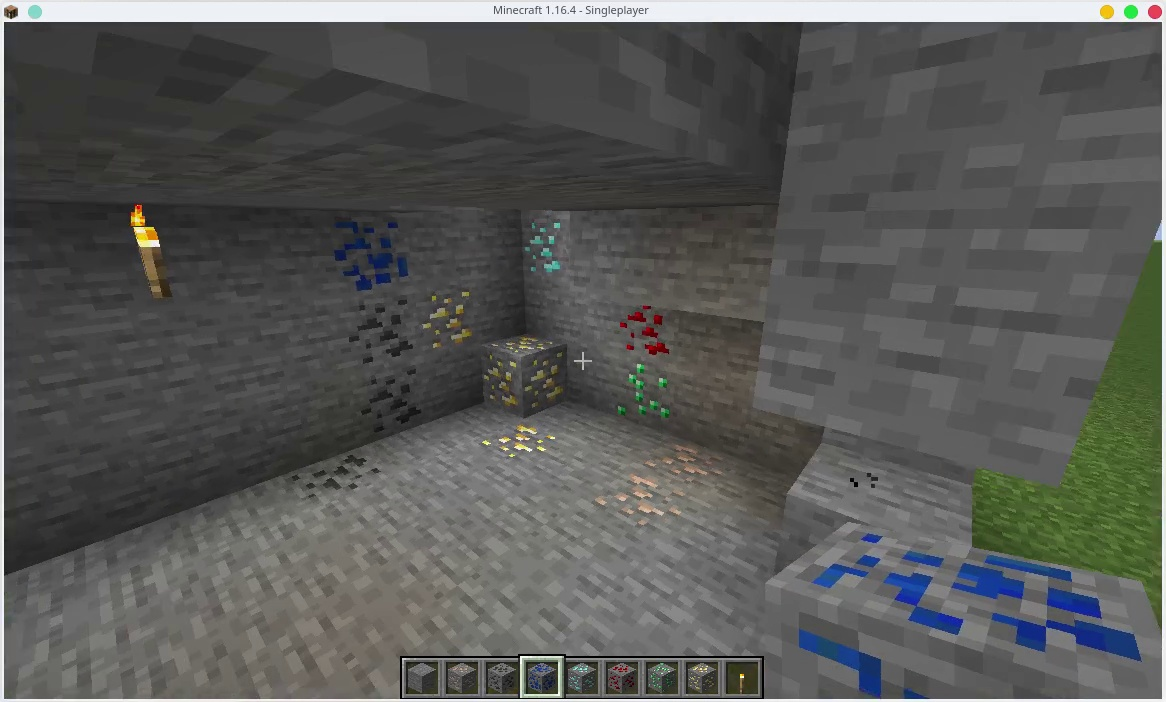gold: (486, 338, 571, 409), (417, 289, 473, 347), (478, 423, 561, 461), (684, 660, 714, 691)
